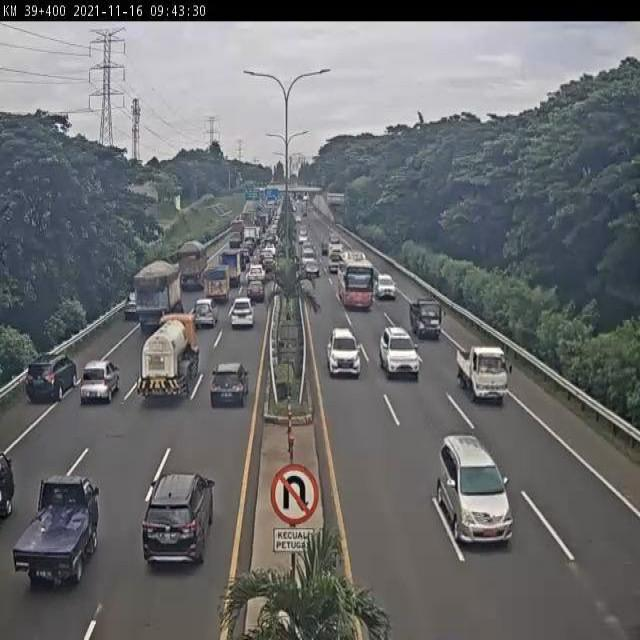big bus: (336, 252, 371, 311)
car: (13, 478, 103, 602), (437, 432, 515, 549), (141, 472, 217, 575), (454, 344, 512, 404), (23, 349, 78, 408), (378, 322, 416, 382), (76, 359, 121, 409), (205, 366, 248, 418), (326, 327, 362, 380), (408, 296, 444, 340), (190, 298, 220, 334), (231, 296, 256, 332), (122, 288, 146, 321), (246, 276, 268, 305), (374, 275, 394, 304)
small truck: (200, 263, 229, 308)
truck-m-: (137, 309, 203, 407), (130, 262, 180, 338), (173, 241, 208, 295)
